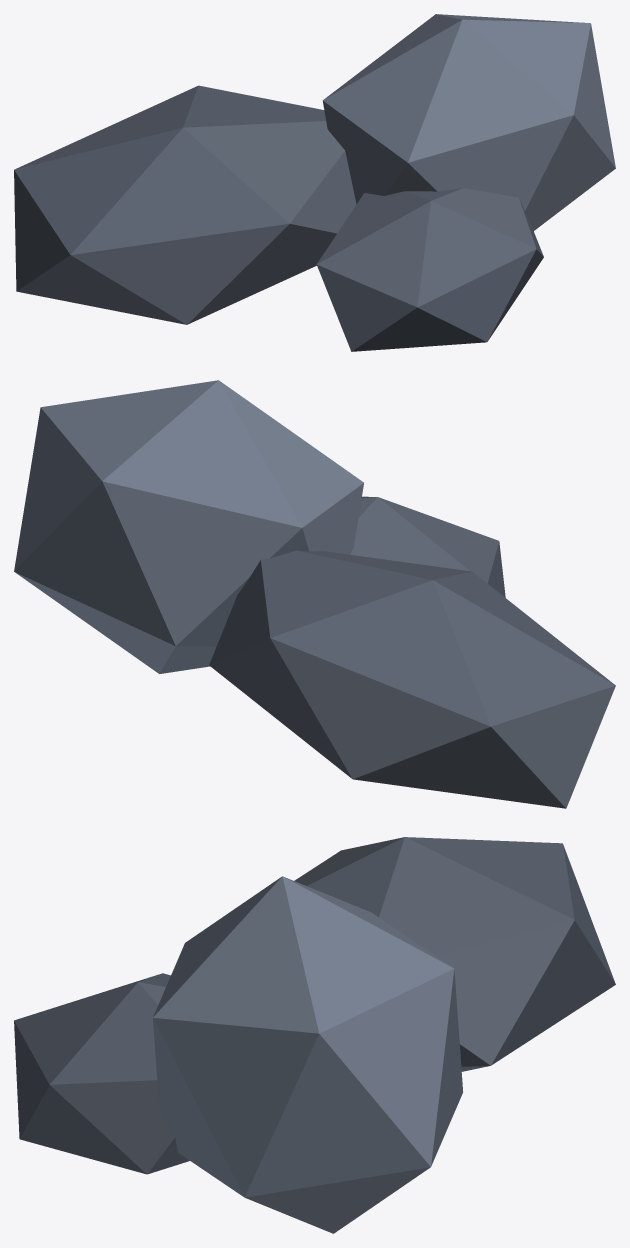
The model's file is EXTW_SouthCluster_01.glb.
3 renders of one model, top to bottom at view 1: azimuth 30°, elevation 25°; view 2: azimuth 150°, elevation 25°; view 3: azimuth 270°, elevation 25°, orthographic. The views are drawn at different scales.
Visible parts, largest first — view 1: EXTW_SouthCluster_01; view 2: EXTW_SouthCluster_01; view 3: EXTW_SouthCluster_01.
Boxes of the visible parts, <box> form: EXTW_SouthCluster_01: <box>14,14,615,351</box>; EXTW_SouthCluster_01: <box>14,380,615,808</box>; EXTW_SouthCluster_01: <box>14,837,615,1233</box>.
Size of the model in its own units: 1.86 by 0.8697 by 1.4.
